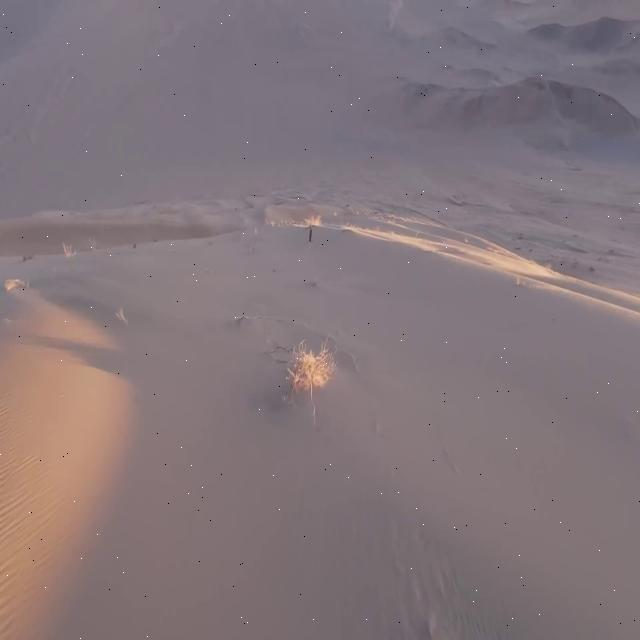Tire: (309, 228, 312, 242)
